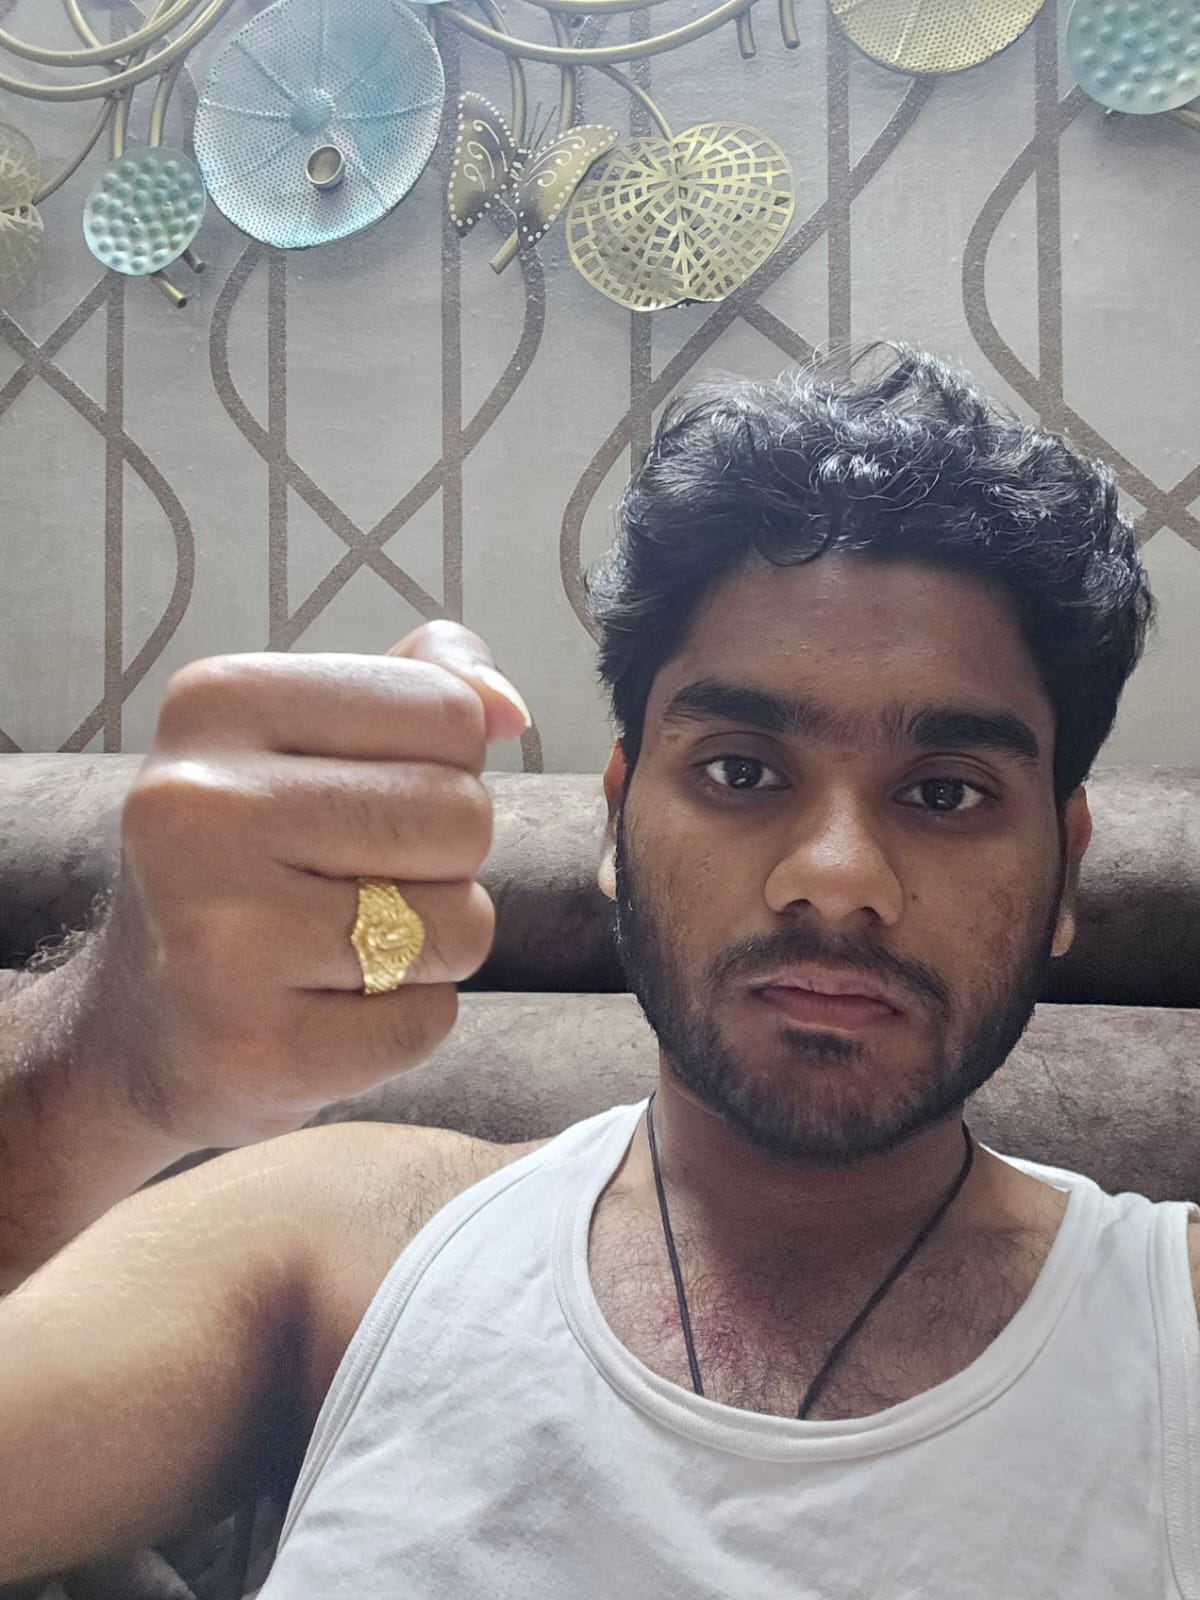yes: (120, 617, 529, 1151)
